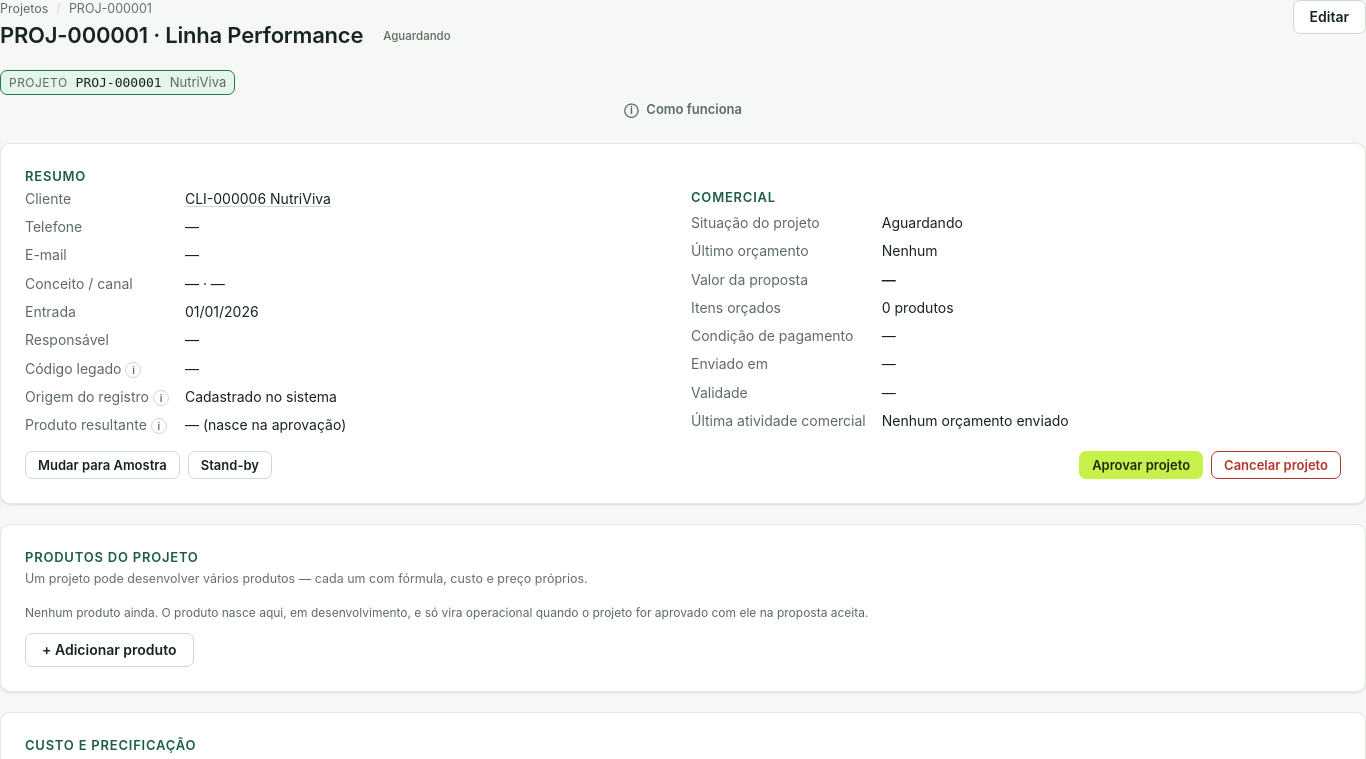
Test: Projeto (detalhe) › diz que custo e margem nunca saem no documento do cliente
The image size is (1366, 759).
Expected: the text "PROJ-000001" next to "Projetos" is shown, [69,1,152,16]
Click the button "ⓘ Como funciona" at {"x": 683, "y": 110}, box [0,96,1365,124]
(page scrolled)
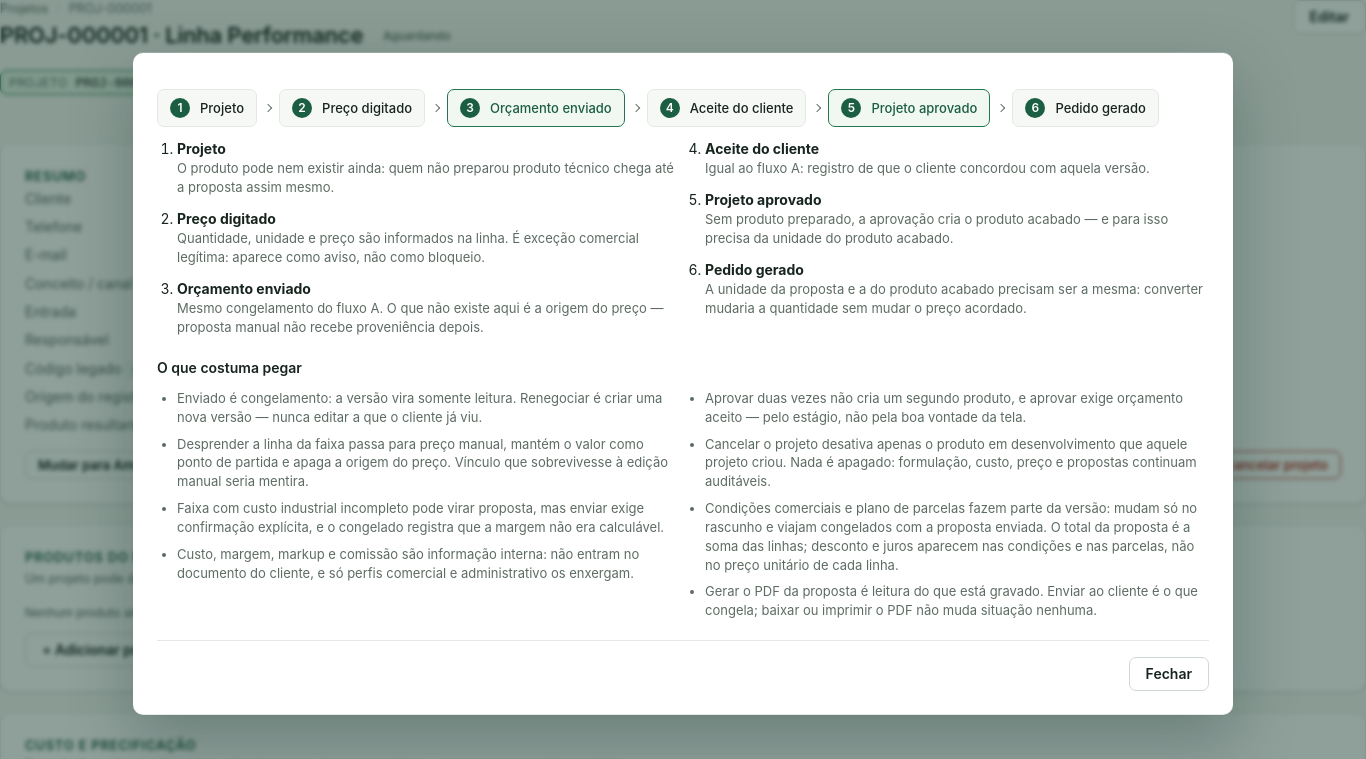
Now the list item "não entram no documento do cliente, e só perfis comercial" is shown, box [177,546,639,580]
